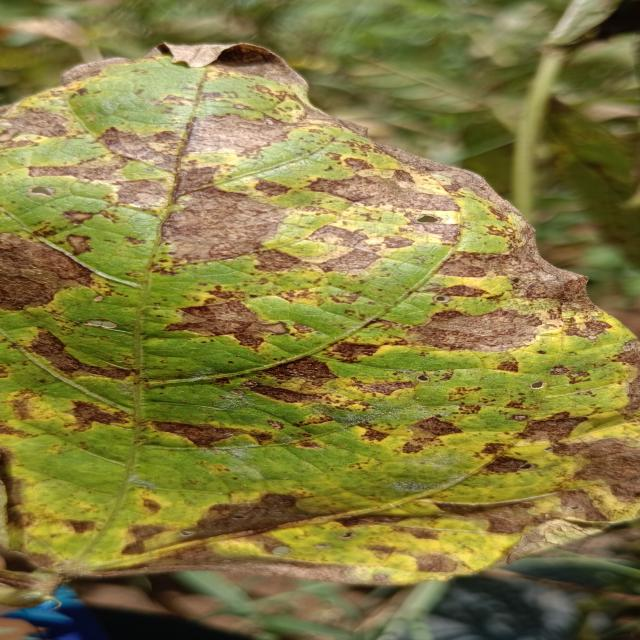Black gram_leaf spot: (0, 30, 640, 593)
